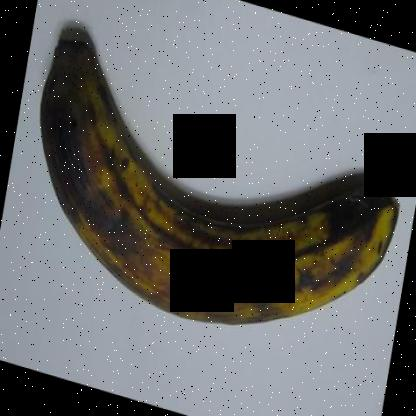overripe: (30, 19, 404, 341)
